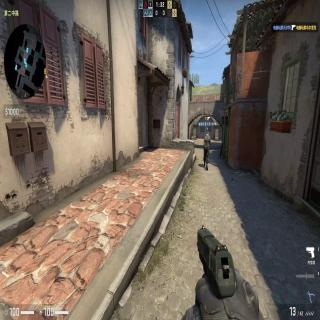CT-Body: (203, 131, 210, 172)
